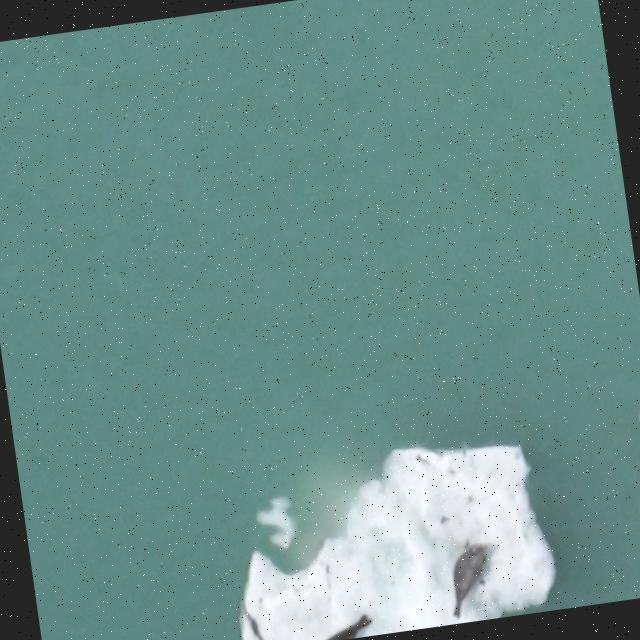seal: (451, 543, 486, 619), (326, 607, 373, 640)
